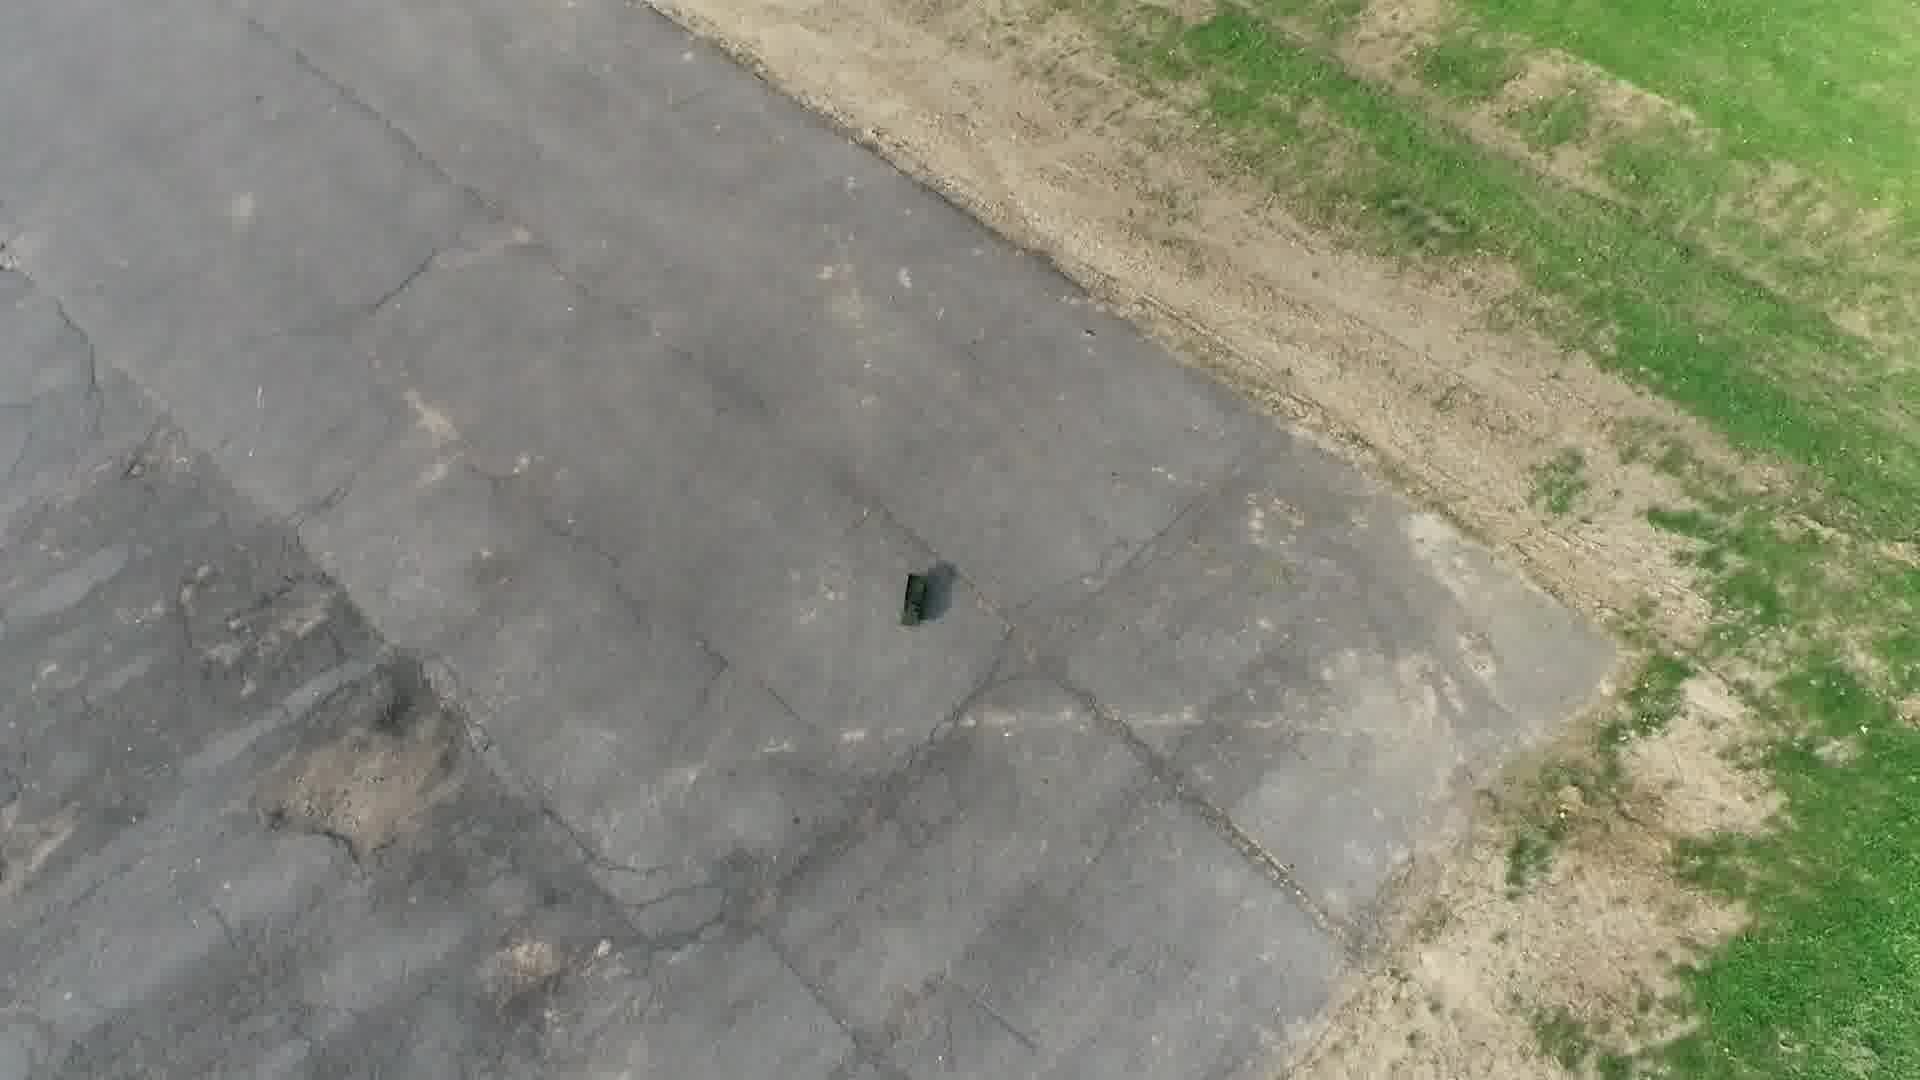transporter9: (895, 571, 935, 629)
